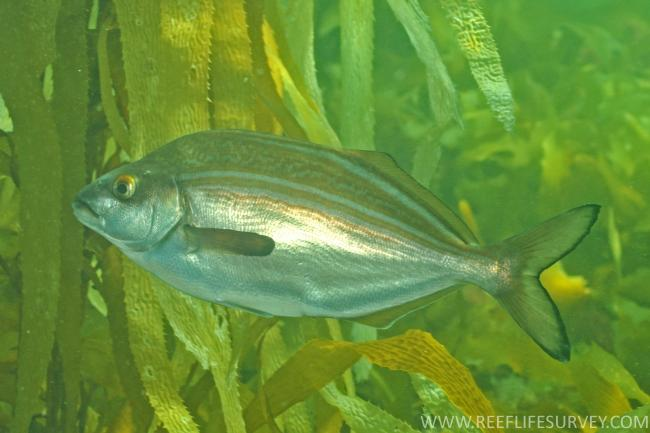fish: (72, 129, 602, 363)
